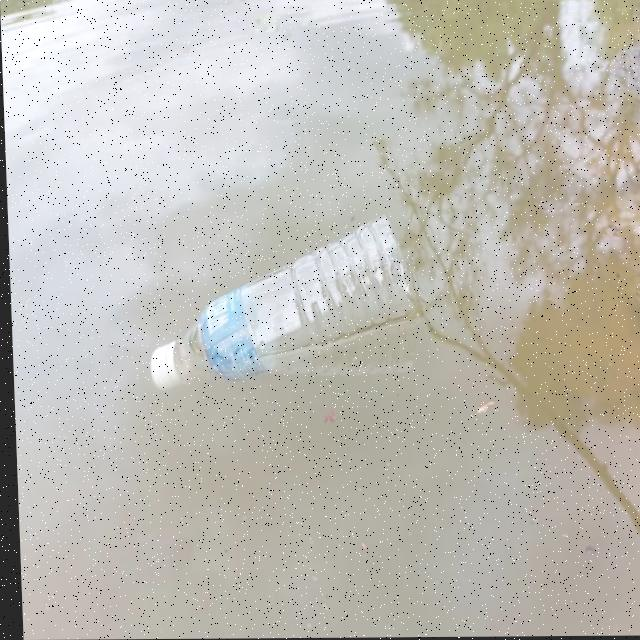waterbottle: (139, 203, 424, 411)
